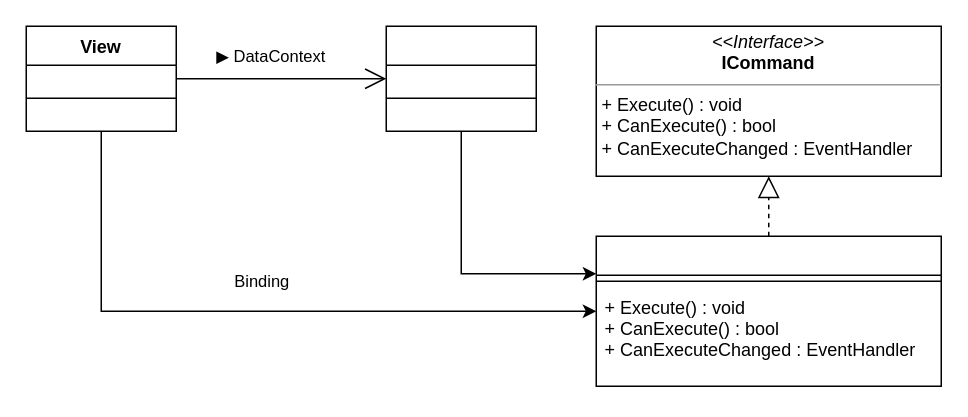
Some shapes in this 968 by 417 pixel diagram are drawn without their labels. The box of each missing label's shape, as (x1, y1, x2, y2) in pixels:
CopyCommand: (595, 235, 941, 386)
ViewModel: (385, 25, 536, 131)
